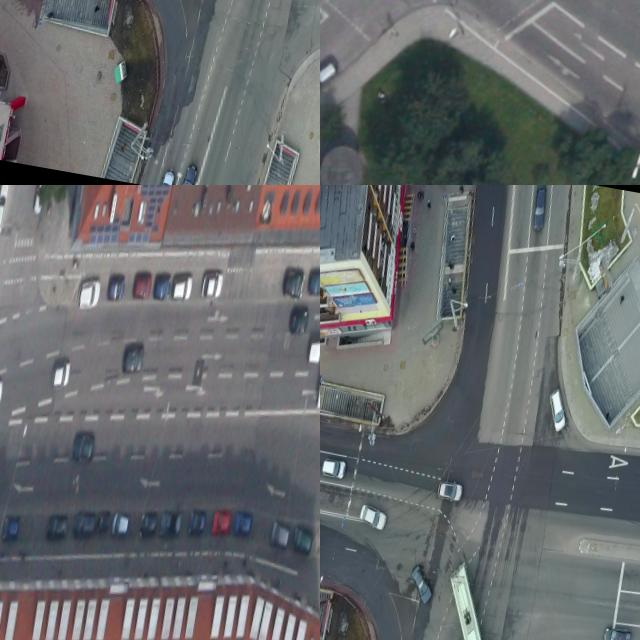UAI: (544, 386, 572, 434), (406, 563, 436, 605), (529, 185, 551, 232), (76, 276, 103, 313), (71, 428, 97, 464), (121, 340, 147, 376), (357, 502, 389, 531), (44, 510, 69, 543), (282, 265, 306, 298), (159, 508, 183, 540), (287, 303, 310, 336), (320, 56, 338, 98), (435, 478, 464, 504), (105, 271, 127, 304), (50, 358, 72, 391), (170, 273, 194, 303), (291, 524, 315, 554), (72, 510, 96, 540), (210, 506, 232, 538), (0, 511, 21, 544), (200, 272, 224, 300), (269, 519, 291, 549), (138, 508, 158, 541), (232, 508, 253, 539), (132, 269, 153, 299), (321, 456, 347, 479), (152, 272, 172, 301), (187, 508, 207, 537), (111, 507, 131, 536), (0, 185, 10, 235), (95, 508, 112, 537), (601, 625, 633, 640), (306, 266, 320, 299), (307, 336, 320, 366)
car: (431, 559, 502, 640)
